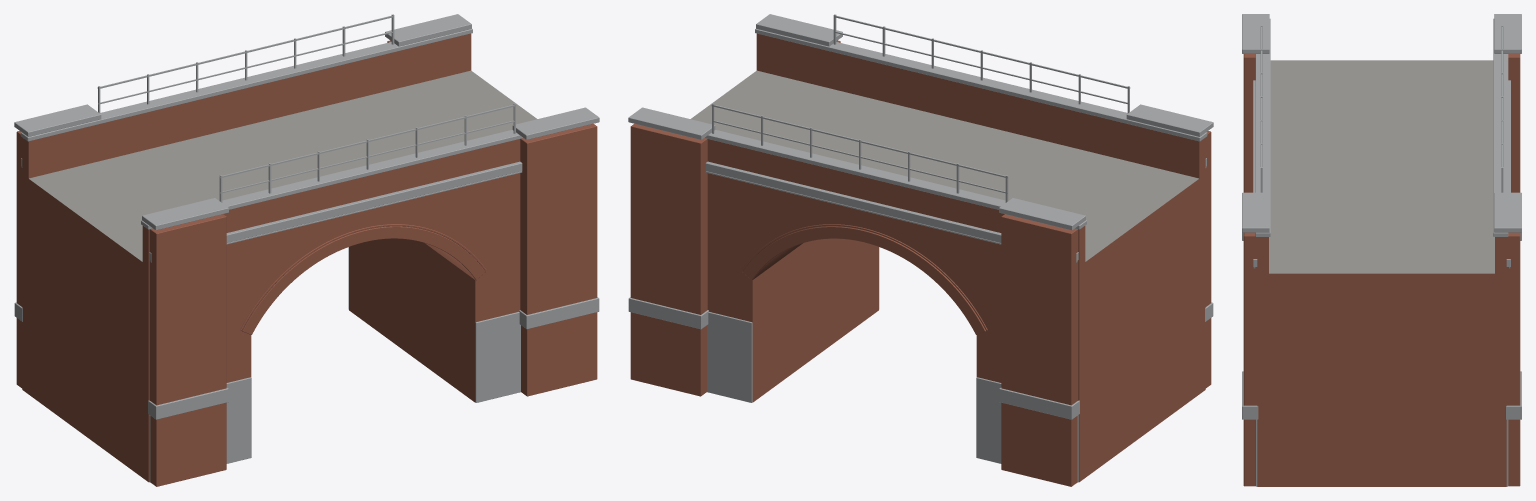
Rendered from kauwberg.glb.
The picture shows the model from 3 angles, left to right: view 1: azimuth 30°, elevation 25°; view 2: azimuth 150°, elevation 25°; view 3: azimuth 270°, elevation 25°; orthographic projection.
Visible parts, largest first — view 1: kauwberg; view 2: kauwberg; view 3: kauwberg.
Boxes of the visible parts, <box> form: kauwberg: <box>14,14,599,486</box>; kauwberg: <box>628,14,1213,486</box>; kauwberg: <box>1242,14,1521,486</box>.
Bounding box in the file's own units: 17.1 × 10.53 × 9.42.
